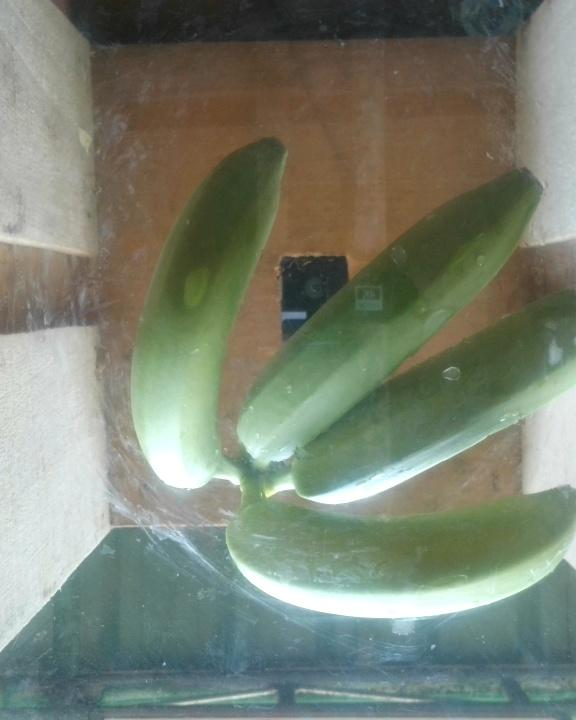SPOT: (110, 127, 576, 620)
